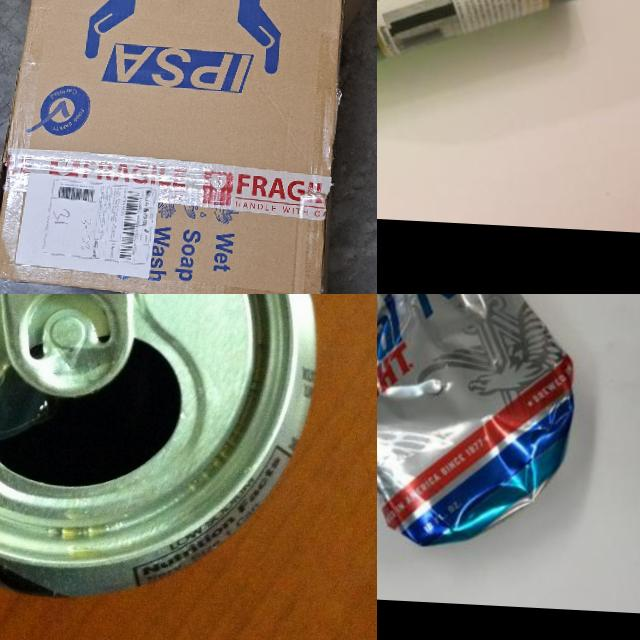aba de lata: (0, 294, 140, 402)
garrafa de vidro: (377, 0, 597, 125)
lata: (0, 294, 335, 605)
papel: (377, 294, 585, 554)
papelão: (0, 0, 377, 294)
